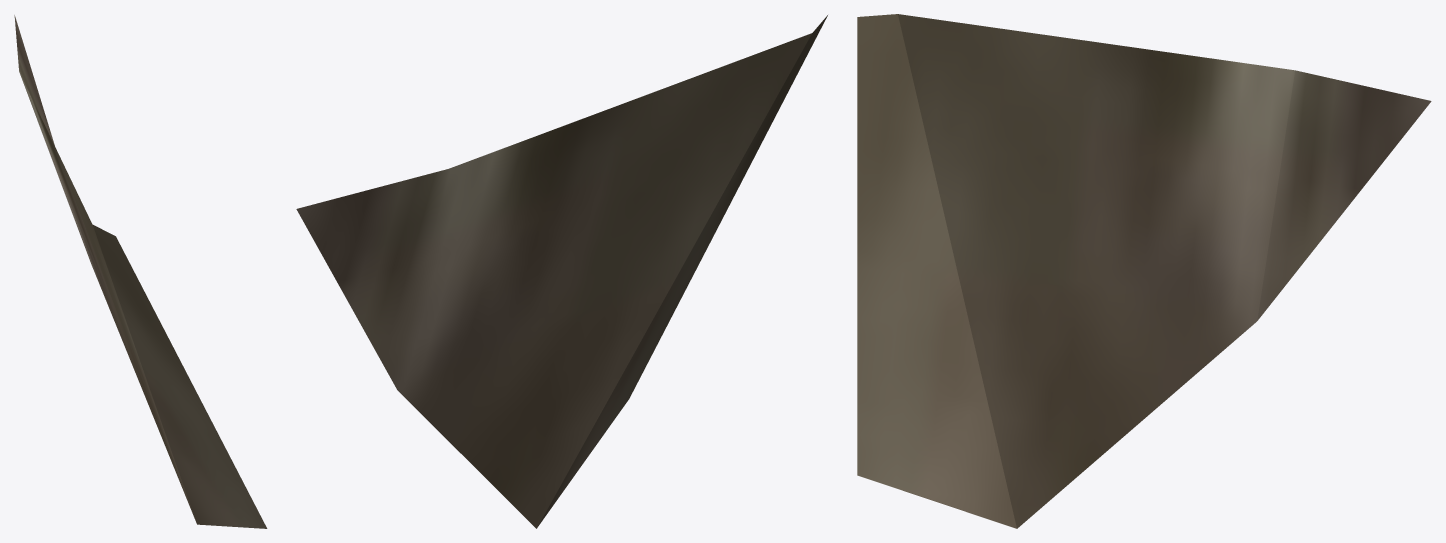
3 views of the same model, side by side, from view 1: azimuth 30°, elevation 25°; view 2: azimuth 150°, elevation 25°; view 3: azimuth 270°, elevation 25° (orthographic). The views are drawn at different scales.
Size of the model in its own units: 0.1405 by 0.3221 by 0.3918.
Materials: 1 (1 with a texture image).
